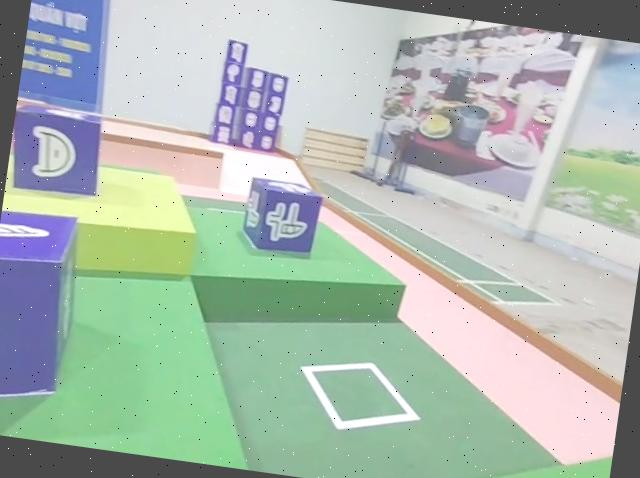R2 Real Blue: (0, 199, 87, 421), (4, 102, 107, 204), (238, 176, 325, 260)
